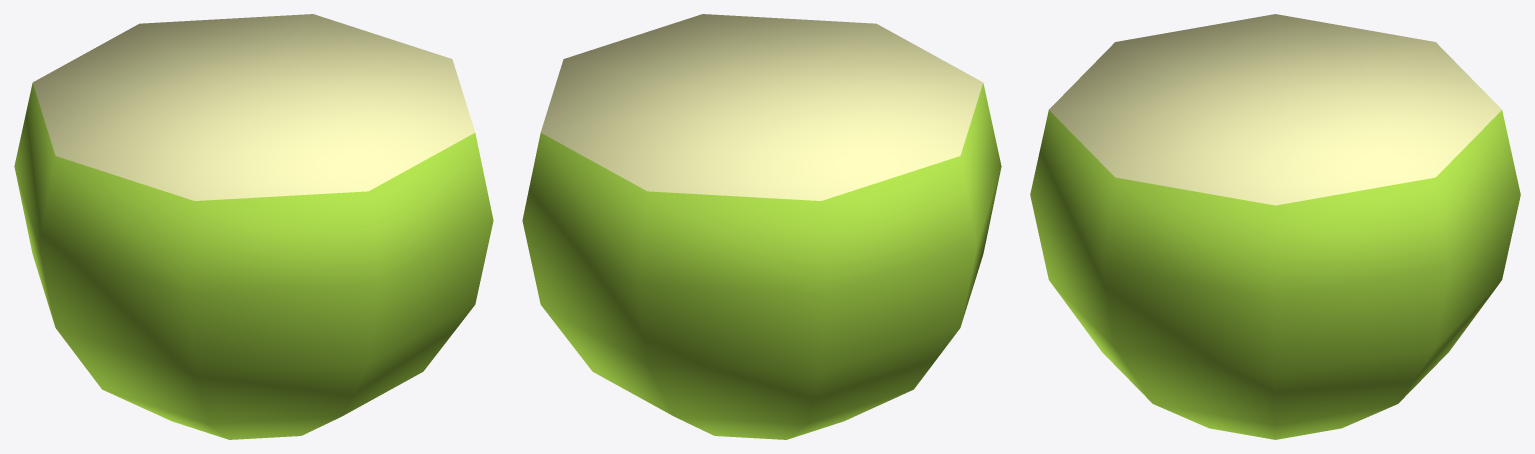
The model's file is PeraFundo.fbx.
The picture shows the model from 3 angles, left to right: view 1: azimuth 30°, elevation 25°; view 2: azimuth 150°, elevation 25°; view 3: azimuth 270°, elevation 25°; orthographic projection.
Parts seen in each view (by area): view 1: PearBottom; view 2: PearBottom; view 3: PearBottom.
Boxes of the visible parts, box(x1,y1,x2,y2) form: PearBottom: box(14, 14, 493, 439); PearBottom: box(522, 14, 1001, 439); PearBottom: box(1030, 14, 1520, 439).
Bounding box in the file's own units: 200 × 138 × 200.
